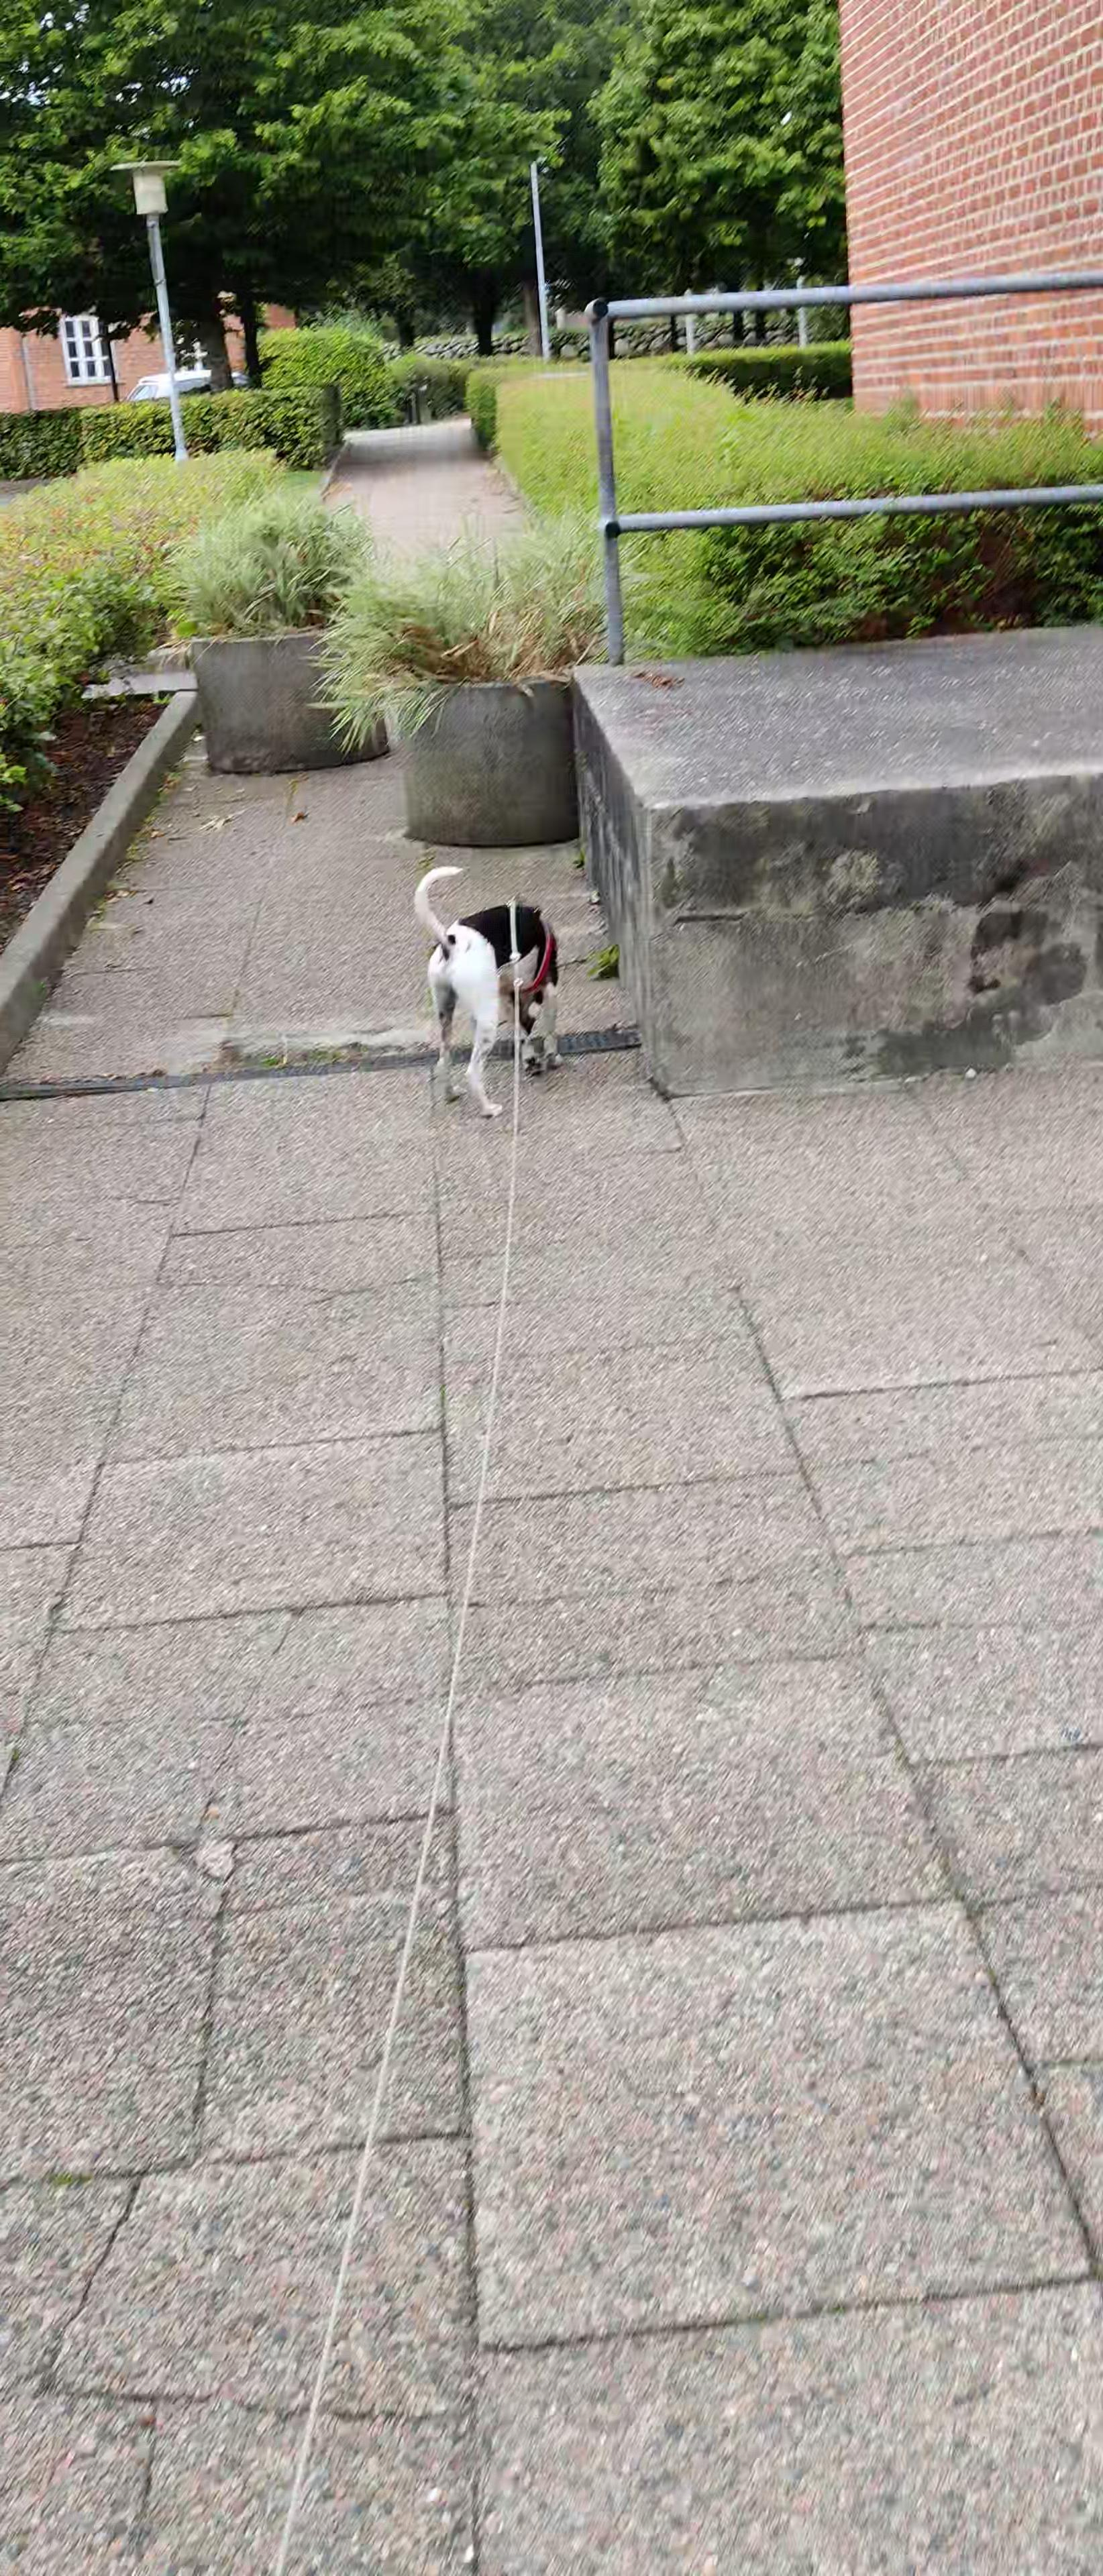Dog: (409, 864, 565, 1124)
